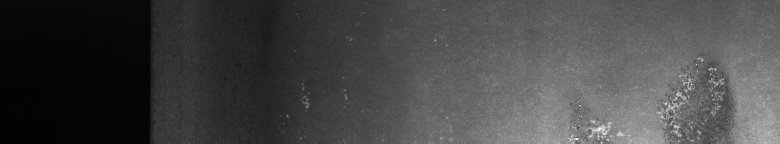hc: (572, 54, 735, 136)
